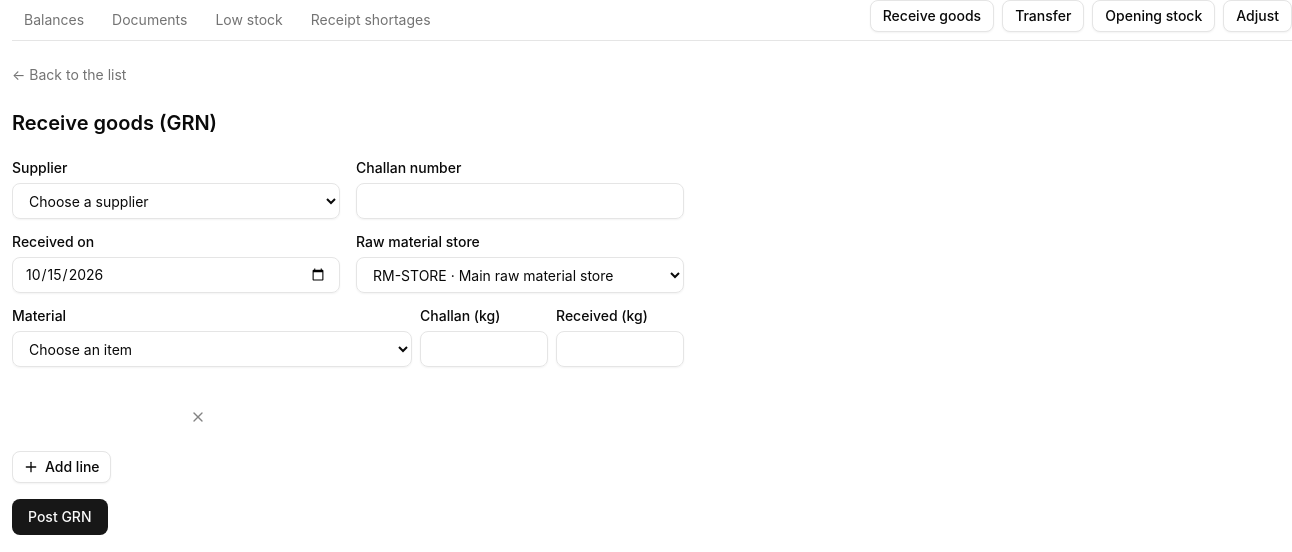
receiving goods › shows the shortage of each line while it is typed
Type "1000" into the field labelled "Challan (kg)" at x=484, y=349, box [420,331,548,367]
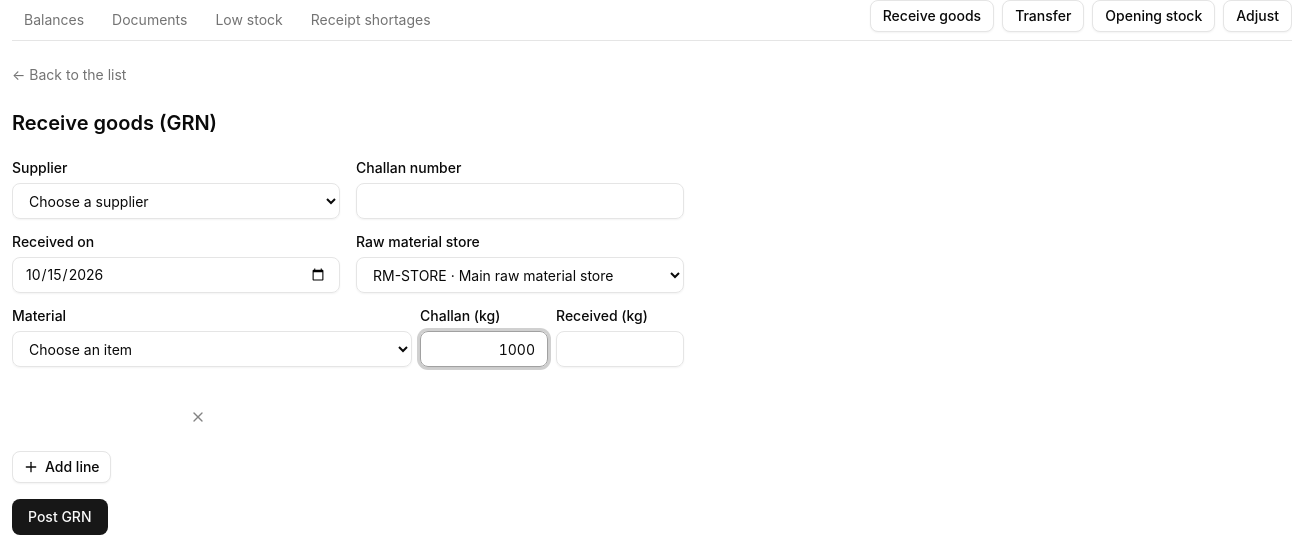
Type "998.5" into the field labelled "Received (kg)" at x=620, y=349, box [556,331,684,367]
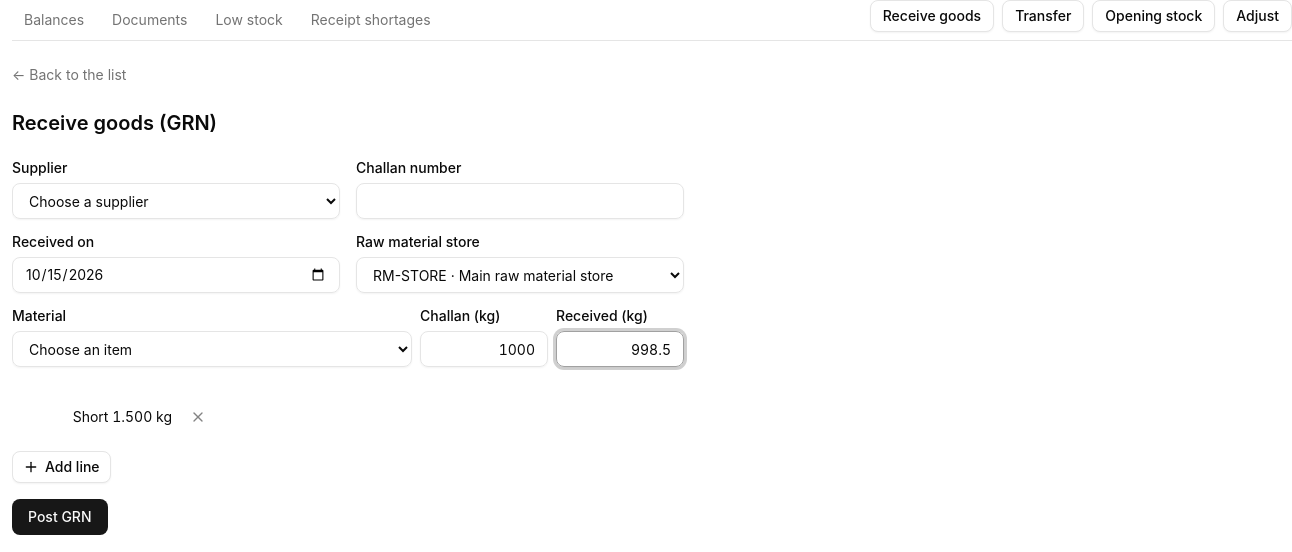
Expected: the element with test id "shortage" reads "Short 1.500 kg", [73,408,172,425]
Replace the text in the field labelled "Received (kg)" with "1000.25" at x=620, y=349, box [556,331,684,367]
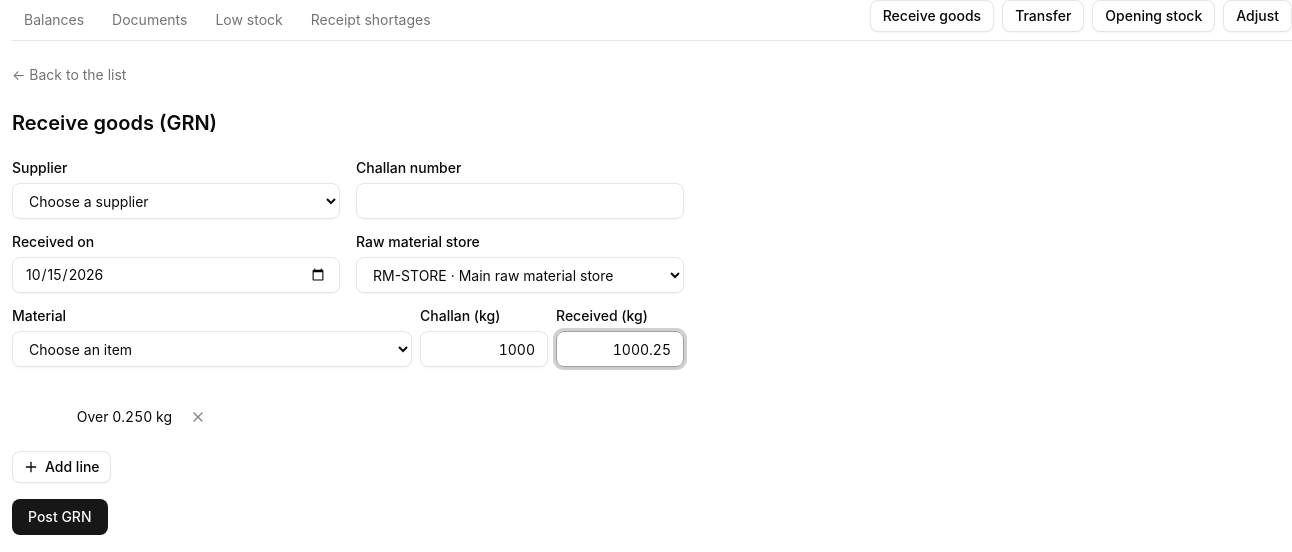
Expected: the element with test id "shortage" reads "Over 0.250 kg", [77,408,172,425]
Replace the text in the field labelled "Received (kg)" with "1000" at x=620, y=349, box [556,331,684,367]
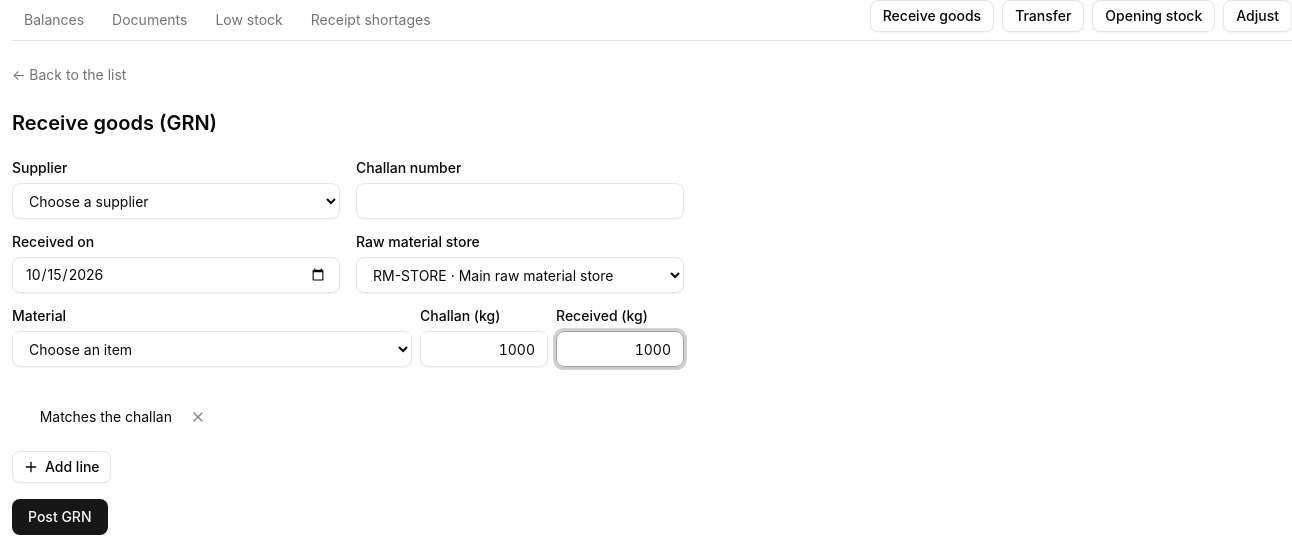
Expected: the element with test id "shortage" reads "Matches the challan", [40,408,172,425]
